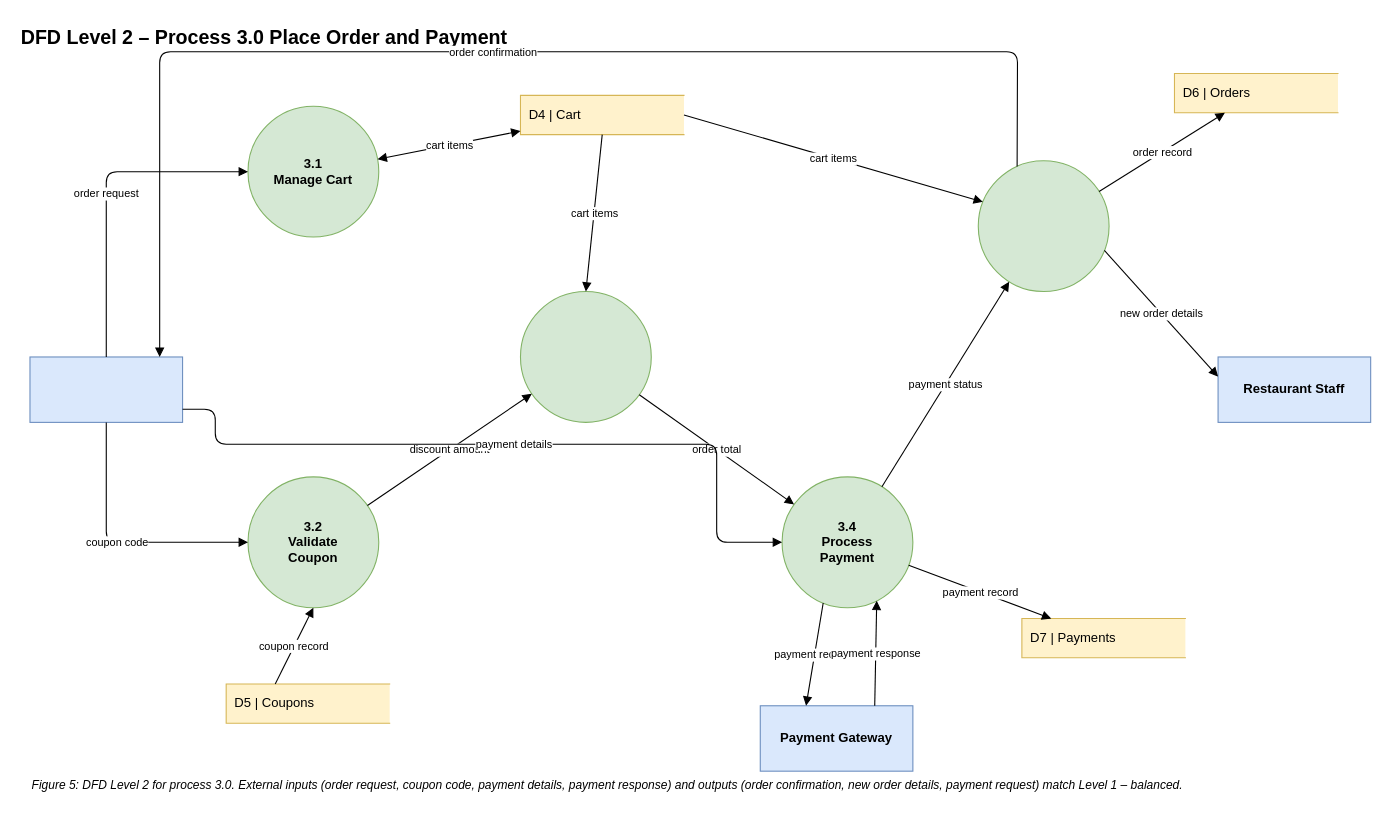
Image size: 1390x833. Some labels were removed from this diagram. The box of each missing label's shape, as (x1, y1, x2, y2) in pixels:
3.3 Calculate Total: (519, 290, 651, 422)
3.5 Create Order: (977, 160, 1109, 292)
Customer: (29, 356, 183, 422)
